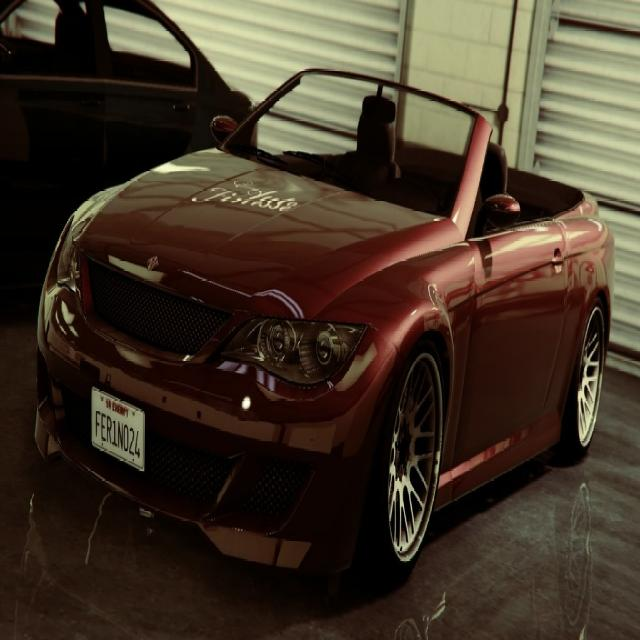car: (36, 71, 613, 592)
